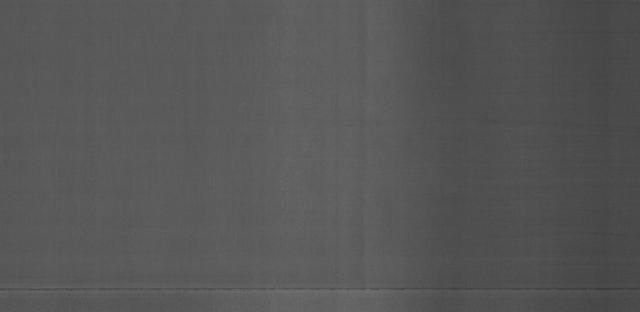welding_line: (3, 276, 640, 300)
